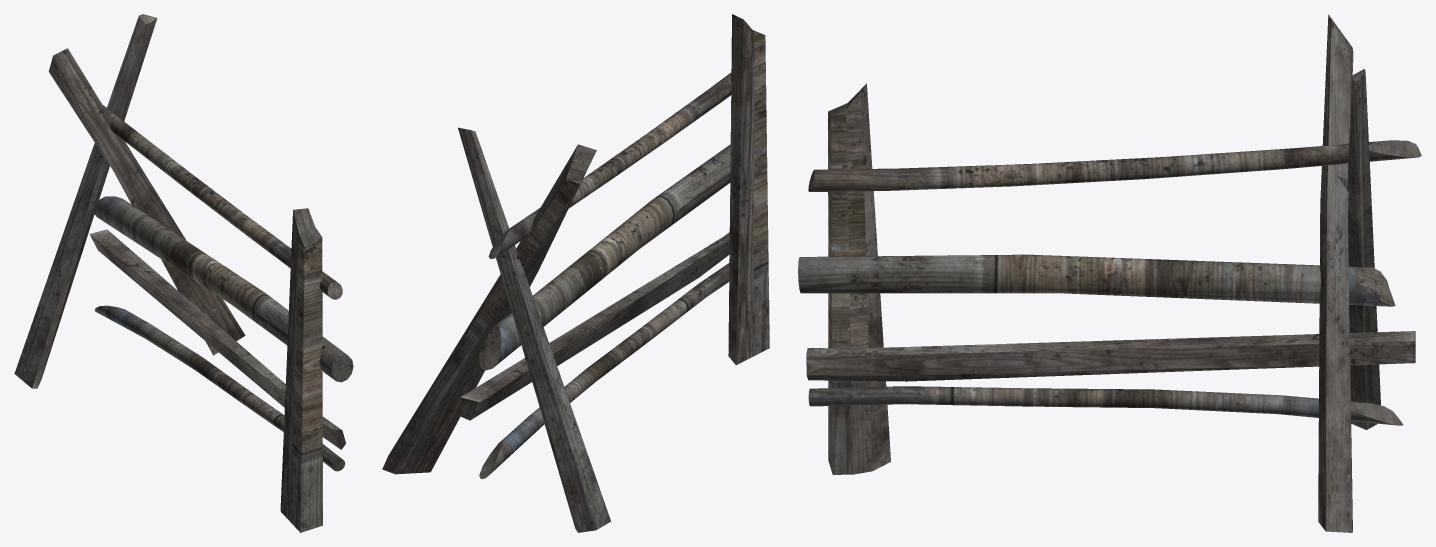
File: Fence_16a_1.fbx
3 renders of one model, left to right at view 1: azimuth 30°, elevation 25°; view 2: azimuth 150°, elevation 25°; view 3: azimuth 270°, elevation 25°, orthographic. The views are drawn at different scales.
Parts seen in each view (by area): view 1: SM_Fence_16a_DM_1.001; view 2: SM_Fence_16a_DM_1.001; view 3: SM_Fence_16a_DM_1.001.
Boxes of the visible parts, bbox=[...] form: SM_Fence_16a_DM_1.001: bbox=[14, 14, 353, 532]; SM_Fence_16a_DM_1.001: bbox=[382, 14, 769, 532]; SM_Fence_16a_DM_1.001: bbox=[798, 14, 1421, 532].
Size of the model in its own units: 5319 by 8326 by 11066.
